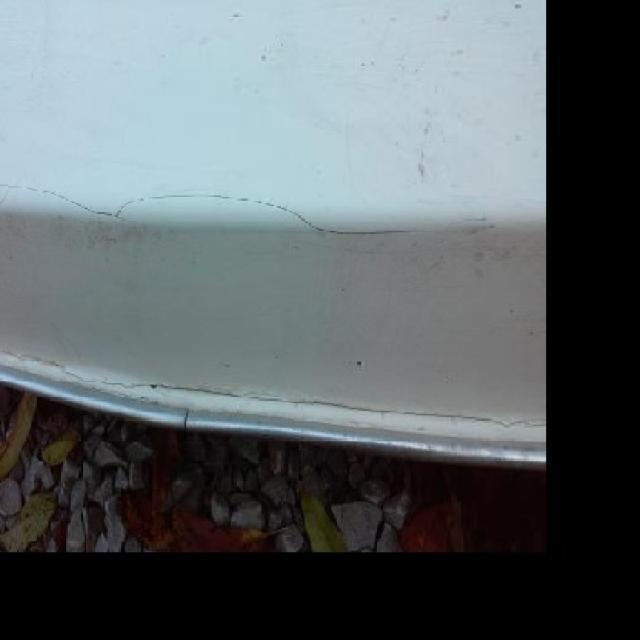crack: (118, 197, 409, 234), (246, 396, 549, 429), (78, 376, 241, 398), (14, 187, 117, 220), (3, 350, 71, 378)
